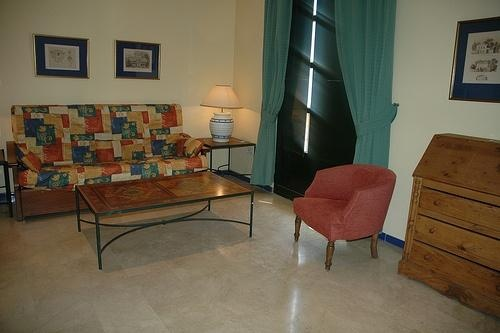chair: (291, 163, 398, 273)
sofa: (5, 103, 210, 223)
